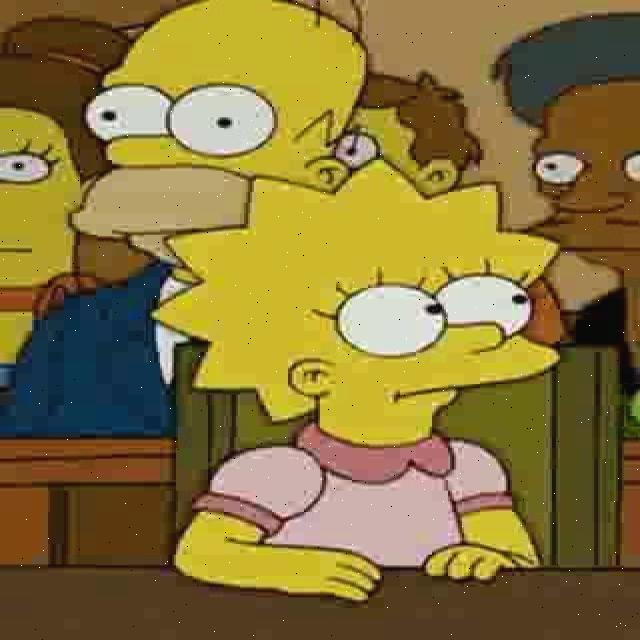Homer Simpson: (67, 5, 369, 283)
Lisa Simpson: (144, 156, 572, 448)
